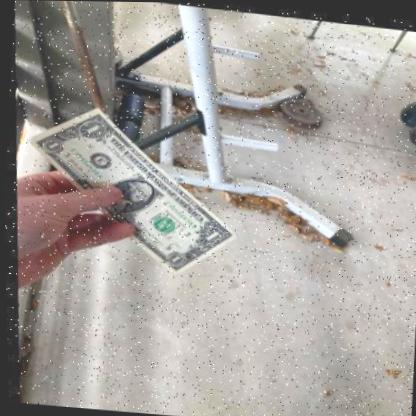one-front: (23, 109, 235, 274)
